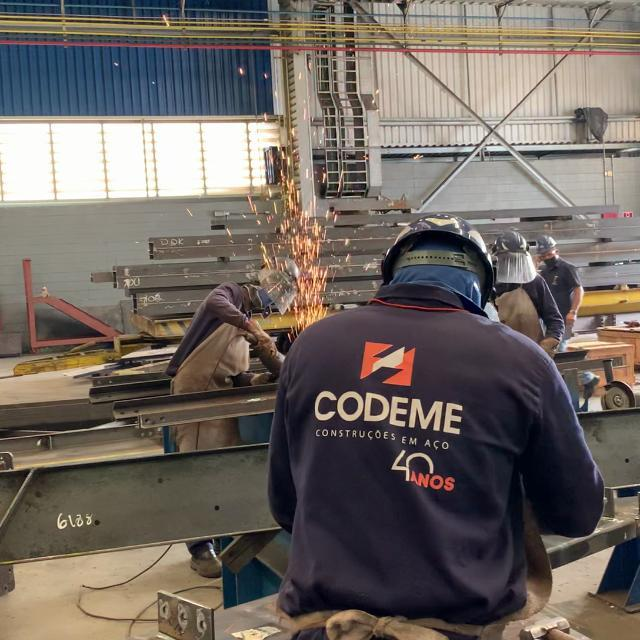eye-glass: (255, 263, 300, 315)
face-shield: (247, 320, 282, 367)
glove: (381, 213, 496, 309)
mask: (267, 213, 604, 627), (164, 255, 309, 392)
safety-shoe: (190, 548, 224, 577)
